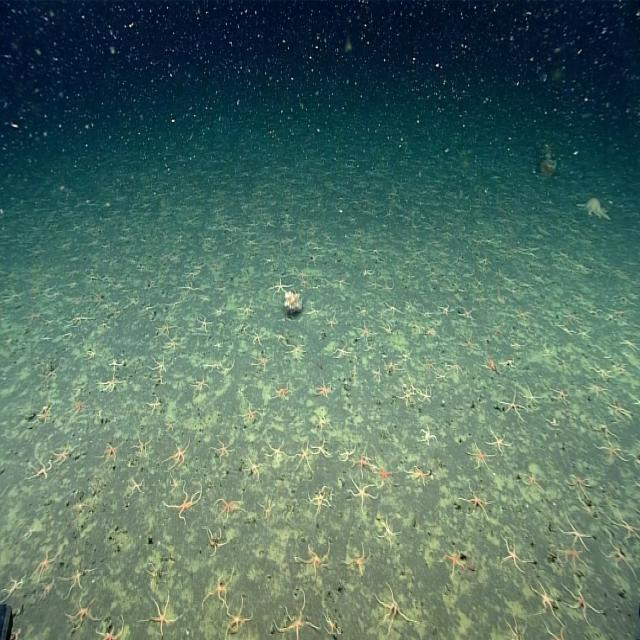brittle-stars: (267, 584, 322, 640), (370, 577, 420, 637), (290, 528, 340, 587), (560, 578, 614, 628), (598, 522, 640, 583), (138, 588, 185, 640), (158, 478, 210, 525), (497, 528, 538, 582), (200, 559, 240, 613), (62, 588, 102, 638), (526, 580, 567, 628), (426, 545, 474, 584), (55, 560, 96, 604), (459, 482, 498, 526), (26, 539, 63, 585), (554, 467, 604, 501), (555, 516, 602, 551), (373, 508, 410, 550), (462, 438, 496, 483), (553, 542, 590, 582), (222, 594, 254, 640), (344, 475, 379, 517), (211, 489, 250, 526), (304, 479, 336, 523), (163, 436, 195, 478), (344, 539, 375, 582), (138, 555, 173, 593), (496, 386, 530, 424), (483, 418, 514, 459), (198, 522, 232, 558), (606, 392, 638, 430), (237, 388, 267, 428), (611, 507, 640, 548), (403, 458, 436, 493), (128, 429, 159, 466), (0, 566, 28, 606), (592, 438, 627, 470), (264, 434, 294, 469), (34, 569, 61, 607), (22, 454, 53, 487), (93, 611, 128, 640), (478, 344, 504, 383), (372, 460, 403, 492), (328, 330, 355, 366), (292, 436, 314, 480), (96, 368, 128, 398), (311, 371, 341, 402), (311, 400, 335, 438), (95, 435, 125, 465), (495, 616, 532, 640), (256, 488, 278, 528), (578, 491, 603, 526), (455, 320, 480, 355), (208, 430, 235, 462), (414, 419, 440, 452), (351, 446, 375, 481), (283, 337, 310, 368), (51, 438, 76, 470), (320, 608, 345, 640), (517, 468, 544, 497), (240, 454, 266, 484), (156, 311, 182, 340), (547, 379, 573, 408), (326, 268, 355, 294), (32, 360, 62, 384), (187, 371, 213, 398), (540, 620, 575, 640), (586, 361, 614, 386), (18, 517, 41, 547), (502, 349, 525, 379), (266, 276, 292, 302), (309, 435, 334, 462), (35, 396, 55, 429), (271, 380, 296, 406), (140, 391, 164, 418), (144, 351, 172, 374), (250, 348, 273, 376), (591, 420, 619, 443), (617, 328, 640, 356), (126, 473, 148, 502), (248, 322, 270, 351), (396, 380, 418, 409), (522, 382, 544, 411), (332, 440, 359, 463), (483, 319, 510, 342), (68, 398, 95, 419), (304, 294, 324, 322), (417, 382, 437, 410), (323, 306, 342, 335), (193, 310, 213, 337), (581, 382, 609, 401), (351, 318, 375, 340), (384, 294, 406, 318), (445, 355, 467, 379), (64, 313, 98, 328), (234, 298, 258, 318), (70, 373, 88, 399), (223, 351, 238, 382), (164, 472, 185, 494), (377, 275, 398, 297), (203, 353, 224, 374), (398, 343, 418, 365), (515, 306, 537, 326), (145, 374, 170, 391), (455, 305, 477, 324), (82, 265, 101, 287), (160, 336, 183, 354), (421, 355, 438, 379), (440, 295, 454, 324), (81, 347, 108, 362), (17, 309, 42, 325), (381, 358, 402, 377), (544, 414, 566, 432), (178, 278, 198, 297), (353, 299, 373, 318), (162, 416, 180, 436), (556, 325, 577, 341), (38, 331, 57, 348), (60, 330, 80, 346), (369, 365, 385, 385), (376, 321, 397, 336), (360, 338, 379, 354), (42, 312, 58, 330), (106, 355, 125, 370), (434, 368, 448, 387), (273, 329, 289, 345), (211, 336, 225, 352), (98, 320, 112, 334)
